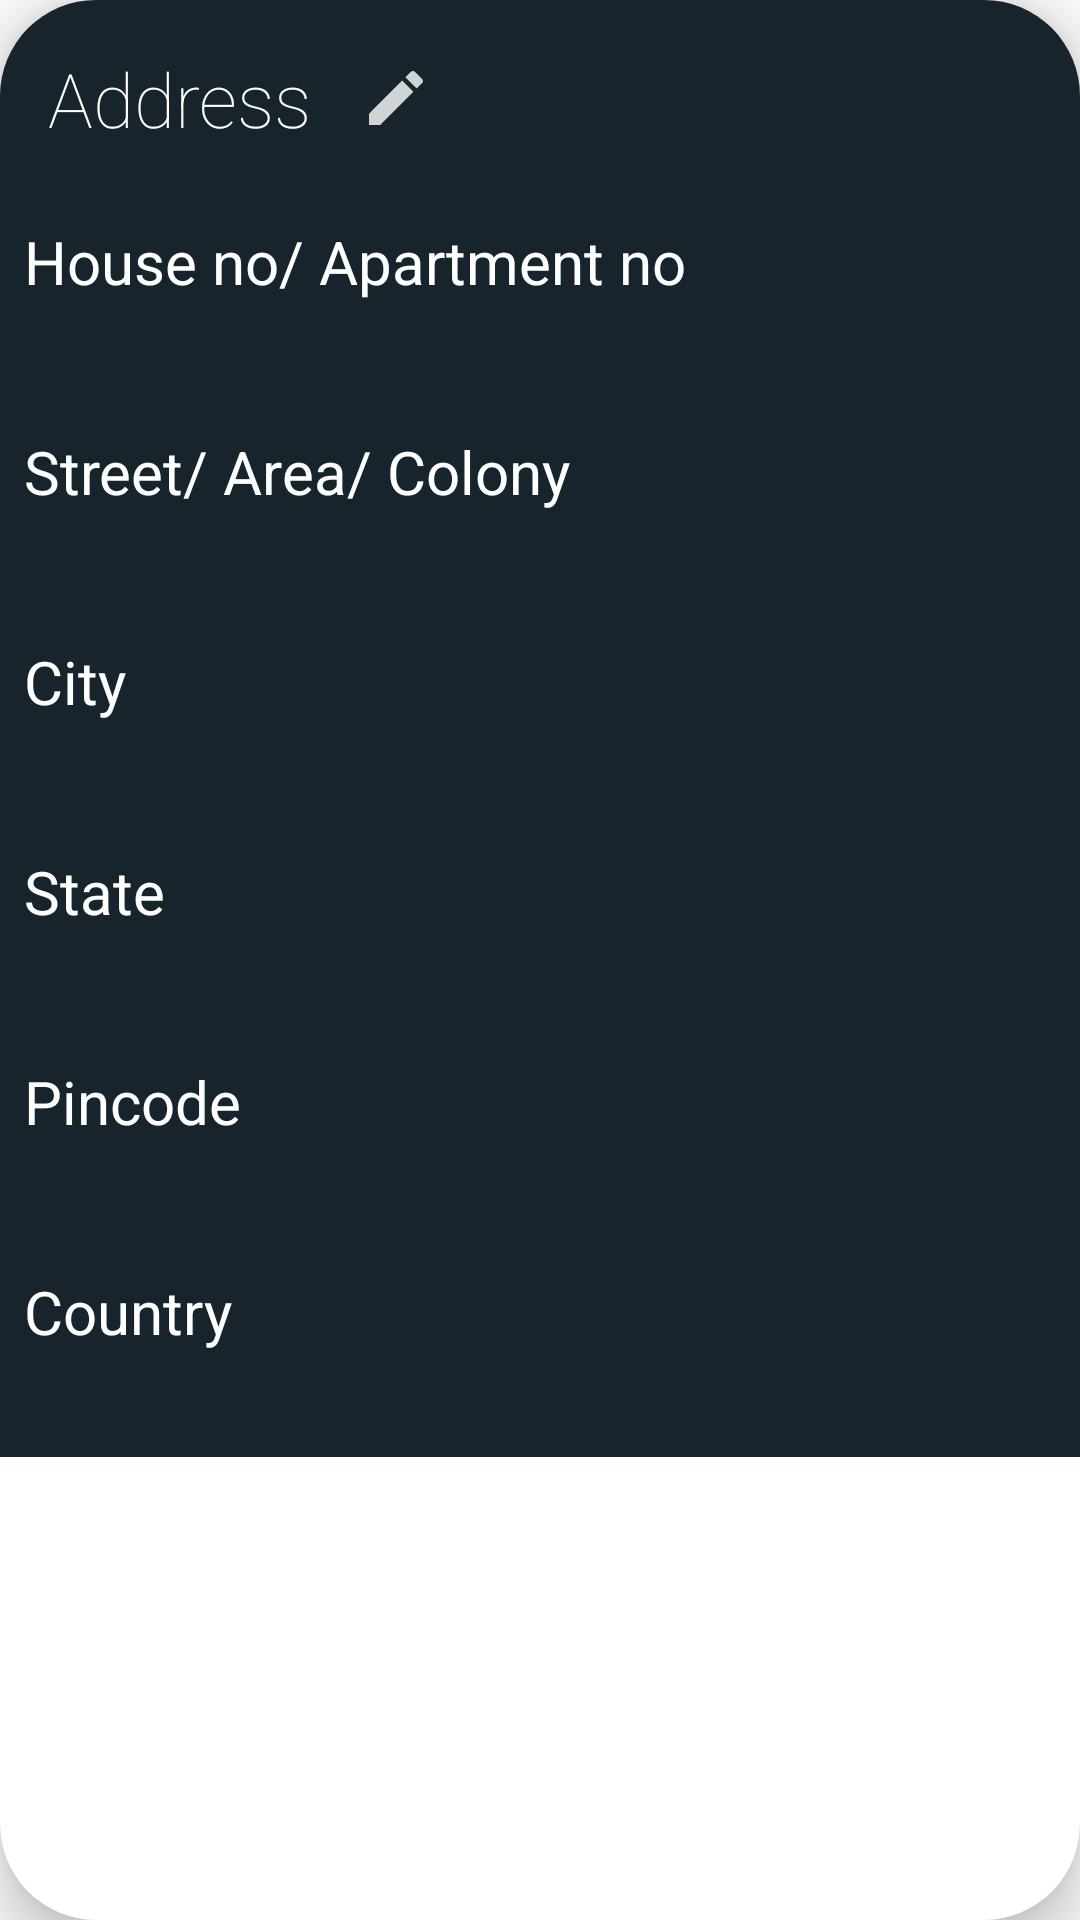

Screen size 1080x1920. Icon name, then its box in pixels as rect(x1, y1, x2, y2):
edit: rect(369, 71, 423, 125)
